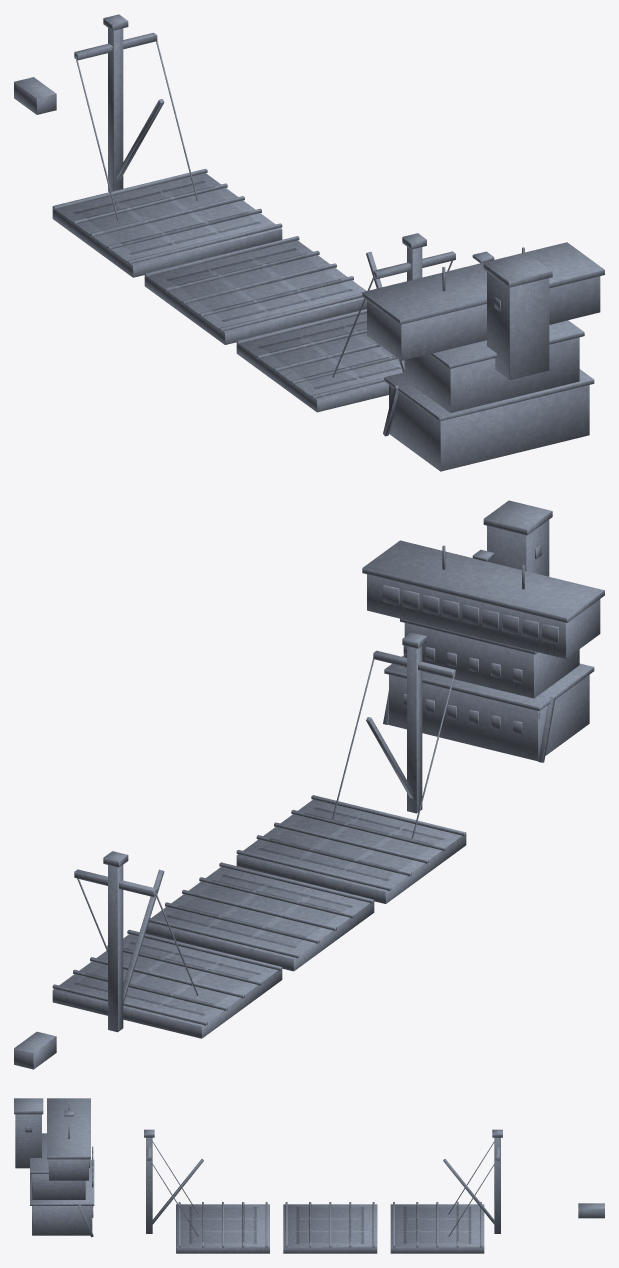
Rendered from Barco_Cubierta.fbx.
The picture shows the model from 3 angles, top to bottom: view 1: azimuth 30°, elevation 25°; view 2: azimuth 150°, elevation 25°; view 3: azimuth 270°, elevation 25°; orthographic projection. The views are drawn at different scales.
Visible parts, largest first — view 1: Barco_Cubierta; view 2: Barco_Cubierta; view 3: Barco_Cubierta.
Boxes of the visible parts, box(x1,y1,x2,y2) form: Barco_Cubierta: box(14, 14, 604, 471); Barco_Cubierta: box(14, 500, 604, 1069); Barco_Cubierta: box(14, 1098, 604, 1253).
Size of the model in its own units: 20.6 by 21.12 by 88.2.
